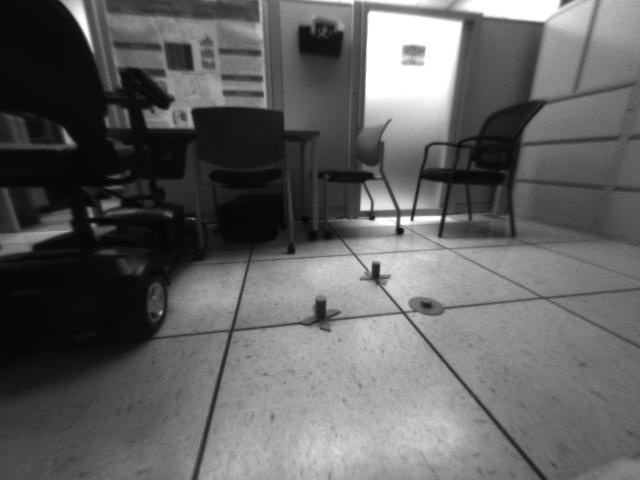X: (300, 295, 343, 333), (358, 261, 393, 288)
